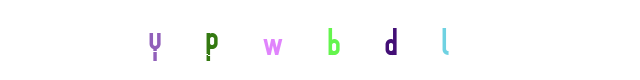B: (284, 0, 364, 80)
D: (330, 0, 410, 80)
L: (352, 0, 432, 80)
P: (194, 0, 274, 80)
W: (280, 0, 360, 80)
Y: (170, 0, 250, 80)
